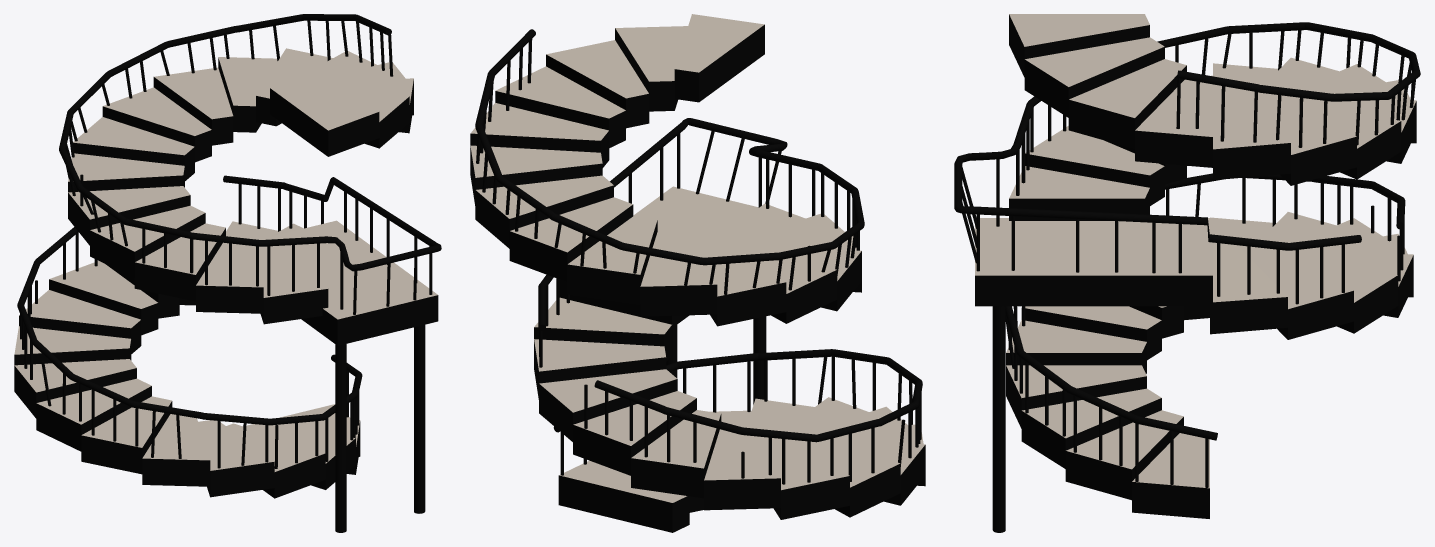
Rendered from Stairs.fbx.
3 renders of one model, left to right at view 1: azimuth 30°, elevation 25°; view 2: azimuth 150°, elevation 25°; view 3: azimuth 270°, elevation 25°, orthographic. The views are drawn at different scales.
Parts seen in each view (by area): view 1: SpiralStairBrush_6; view 2: SpiralStairBrush_6; view 3: SpiralStairBrush_6.
Boxes of the visible parts, left/top/right/bottom form: SpiralStairBrush_6: left=14, top=14, right=441, bottom=532; SpiralStairBrush_6: left=470, top=14, right=925, bottom=532; SpiralStairBrush_6: left=954, top=14, right=1420, bottom=532.
Bounding box in the file's own units: 709 × 788 × 686.
